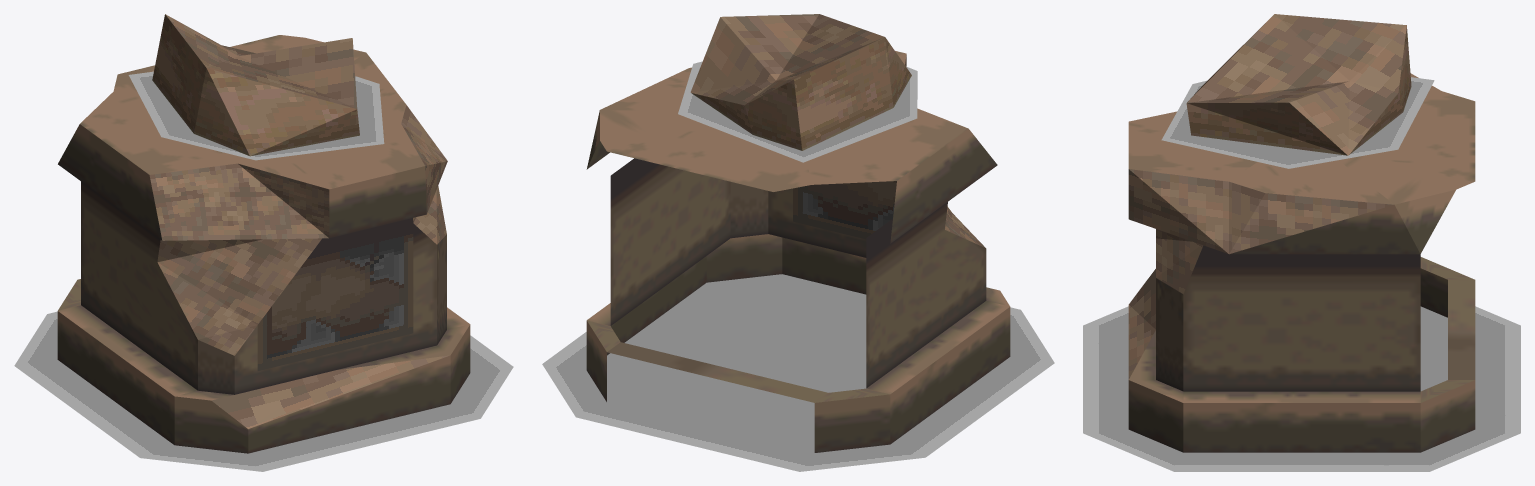
3 renders of one model, left to right at view 1: azimuth 30°, elevation 25°; view 2: azimuth 150°, elevation 25°; view 3: azimuth 270°, elevation 25°, orthographic. The views are drawn at different scales.
Visible parts, largest first — view 1: polygon0, polygon2, polygon1, polygon4, polygon3; view 2: polygon0, polygon1, polygon2, polygon3, polygon4; view 3: polygon0, polygon2, polygon1, polygon3.
Part boxes in pixels (left/top/right/bottom): polygon0: left=57, top=35, right=470, bottom=453; polygon2: left=149, top=14, right=449, bottom=428; polygon1: left=14, top=71, right=513, bottom=471; polygon4: left=257, top=223, right=413, bottom=370; polygon3: left=152, top=14, right=359, bottom=156; polygon0: left=586, top=51, right=1010, bottom=452; polygon1: left=542, top=61, right=1054, bottom=471; polygon2: left=690, top=14, right=985, bottom=247; polygon3: left=691, top=37, right=911, bottom=150; polygon4: left=793, top=181, right=896, bottom=239; polygon0: left=1128, top=73, right=1475, bottom=452; polygon2: left=1128, top=14, right=1406, bottom=379; polygon1: left=1083, top=77, right=1520, bottom=471; polygon3: left=1186, top=23, right=1411, bottom=155.
Bounding box in the file's own units: 6 × 5 × 6.
